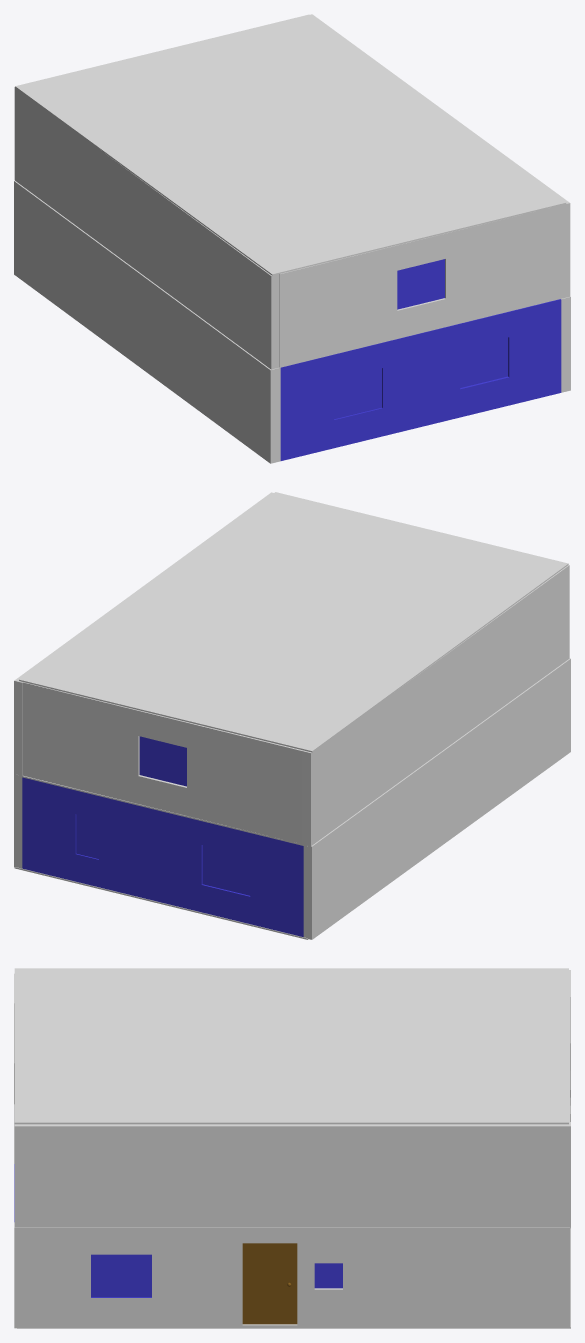
File: трепхата 2 этажа (2).fbx
3 renders of one model, top to bottom at view 1: azimuth 30°, elevation 25°; view 2: azimuth 150°, elevation 25°; view 3: azimuth 270°, elevation 25°, orthographic. The views are drawn at different scales.
Visible parts, largest first — view 1: Plane.002, Cube, Cube.032, Cube.034, Cube.002, Cube.013, Cube.038, Cube.012, Cube.031, Cube.001; view 2: Plane.002, Cube, Cube.032, Cube.033, Cube.003, Cube.014, Cube.037, Cube.031, Cube.015, Cube.001, Plane, Plane.001; view 3: Plane.002, Cube.031, Cube.001, Sphere, Cube.011, Cube.007, Plane.
Part boxes in pixels (x1,y1,x2,y2): Plane.002: (15,14,566,275); Cube: (14,181,280,463); Cube.032: (14,87,279,369); Cube.034: (279,205,560,367); Cube.002: (280,299,561,460); Cube.013: (334,368,381,419); Cube.038: (397,259,444,309); Cube.012: (460,337,507,387); Cube.031: (310,14,570,298); Cube.001: (561,296,570,392); Plane.002: (19,492,568,752); Cube: (303,658,570,939); Cube.032: (302,565,569,846); Cube.033: (23,682,302,843); Cube.003: (22,777,303,936); Cube.014: (202,845,250,895); Cube.037: (139,736,186,786); Cube.031: (14,492,273,775); Cube.015: (76,814,98,858); Cube.001: (14,774,22,868); Plane: (14,867,308,939); Plane.001: (14,774,307,846); Plane.002: (14,968,568,1124); Cube.031: (14,1122,570,1227); Cube.001: (14,1222,570,1328); Sphere: (242,1243,297,1324); Cube.011: (91,1254,151,1297); Cube.007: (314,1263,342,1288); Plane: (17,1228,570,1328).
Bounding box in the file's own units: 1671 × 1007 × 2489.
